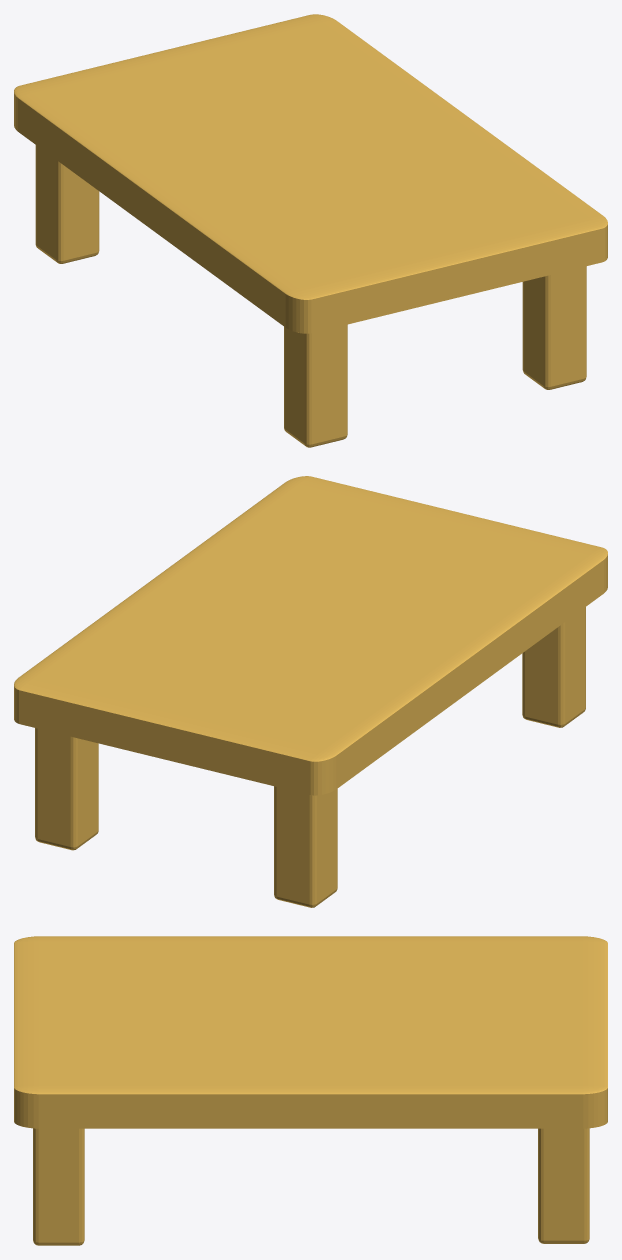
Rendered from simplelowtable.glb.
3 renders of one model, top to bottom at view 1: azimuth 30°, elevation 25°; view 2: azimuth 150°, elevation 25°; view 3: azimuth 270°, elevation 25°, orthographic.
Visible parts, largest first — view 1: Cube, 立方体.001, 立方体.002, 立方体.003; view 2: Cube, 立方体.003, 立方体.004, 立方体.001; view 3: Cube, 立方体.002, 立方体.004.
Part boxes in pixels (x1,y1,x2,y2): Cube: (14,14,607,333); 立方体.001: (284,324,347,447); 立方体.002: (522,266,586,389); 立方体.003: (35,145,99,263); Cube: (14,476,607,795); 立方体.003: (274,786,337,907); 立方体.004: (35,728,98,850); 立方体.001: (522,607,585,727); Cube: (14,936,607,1128); 立方体.002: (33,1128,84,1245); 立方体.004: (538,1128,589,1243).
Size of the model in its own units: 2 by 0.9682 by 3.18.
